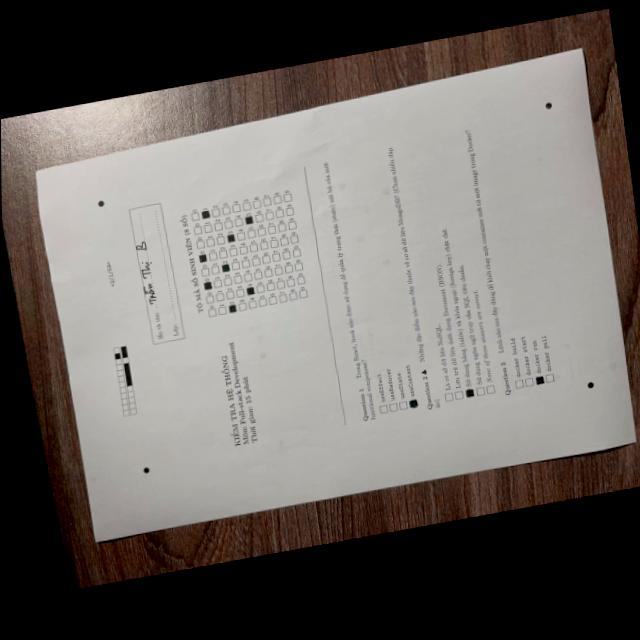Markers: (96, 198, 104, 206), (586, 379, 594, 387), (544, 101, 553, 108), (142, 465, 149, 472)
